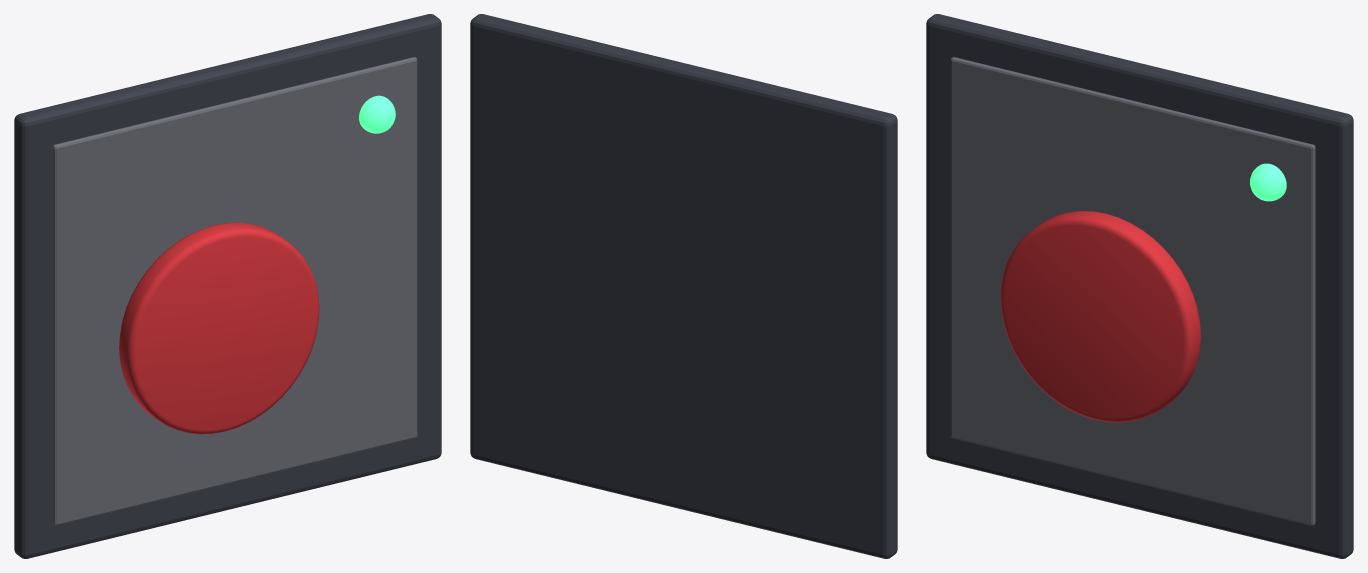
File: test_module.glb
3 views of the same model, side by side, from view 1: azimuth 30°, elevation 25°; view 2: azimuth 150°, elevation 25°; view 3: azimuth 330°, elevation 25° (orthographic).
Parts seen in each view (by area): view 1: module_panel, module_housing, part_button, status_light; view 2: module_housing; view 3: module_panel, module_housing, part_button, status_light.
Boxes of the visible parts, box(x1,y1,x2,y2) form: module_panel: box(52, 57, 417, 525); module_housing: box(14, 14, 441, 558); part_button: box(119, 222, 319, 434); status_light: box(359, 95, 395, 133); module_housing: box(470, 14, 897, 558); module_panel: box(950, 57, 1315, 525); module_housing: box(926, 14, 1353, 558); part_button: box(1000, 211, 1200, 422); status_light: box(1250, 163, 1286, 201).
Size of the model in its own units: 0.88 by 0.88 by 0.1.
